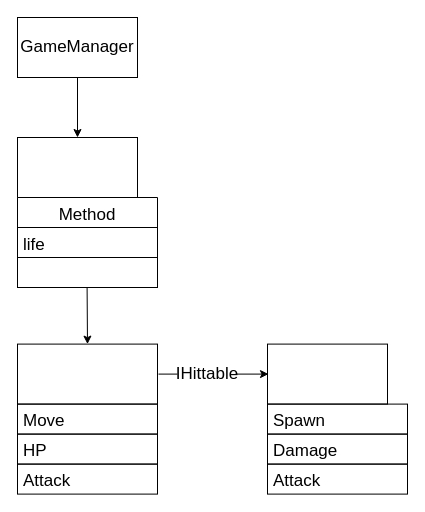
This 425x512 diagram has some shape labels left out. Here are the shapes that lost their labels. From the top down, the centre of each, then its label:
(77,167): StageState
(87,272): score
(87,373): Player
(327,373): Enemy
